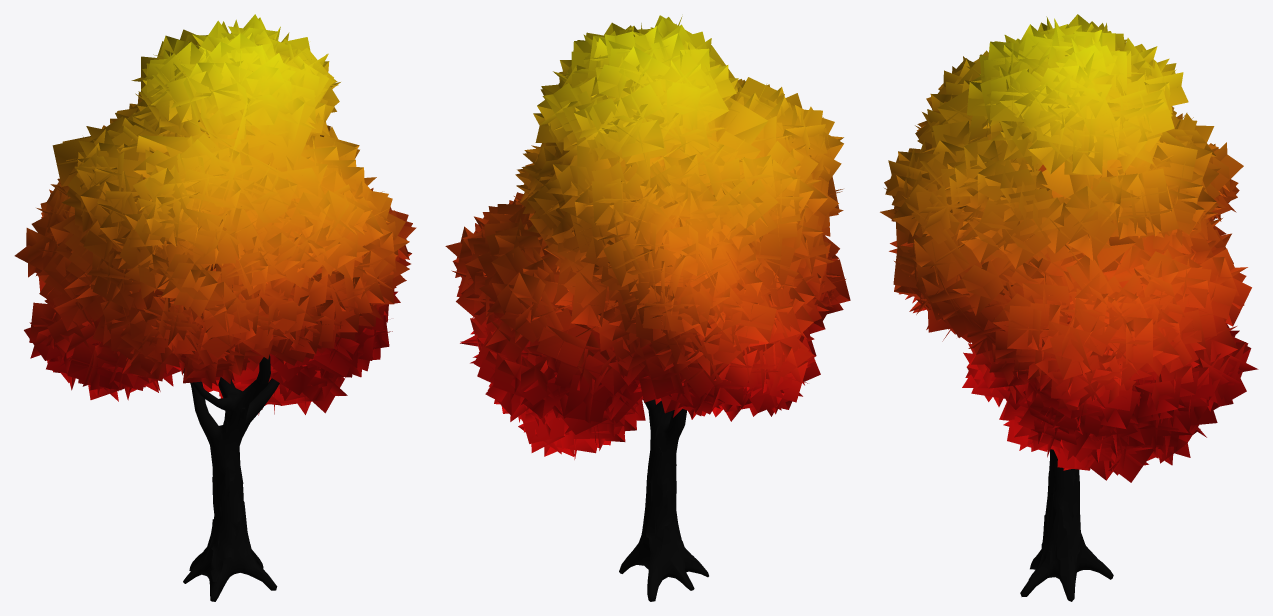
The model's file is TGV_Beech_Tree_01A.fbx.
3 renders of one model, left to right at view 1: azimuth 30°, elevation 25°; view 2: azimuth 150°, elevation 25°; view 3: azimuth 270°, elevation 25°, orthographic. The views are drawn at different scales.
Visible parts, largest first — view 1: TGV_Beech_Tree_01A_LOD0; view 2: TGV_Beech_Tree_01A_LOD0; view 3: TGV_Beech_Tree_01A_LOD0.
Part boxes in pixels (box(x1,y1,x2,y2)): TGV_Beech_Tree_01A_LOD0: box(14, 14, 416, 601); TGV_Beech_Tree_01A_LOD0: box(445, 15, 850, 601); TGV_Beech_Tree_01A_LOD0: box(880, 14, 1258, 601).
Size of the model in its own units: 1507 by 2213 by 1347.
